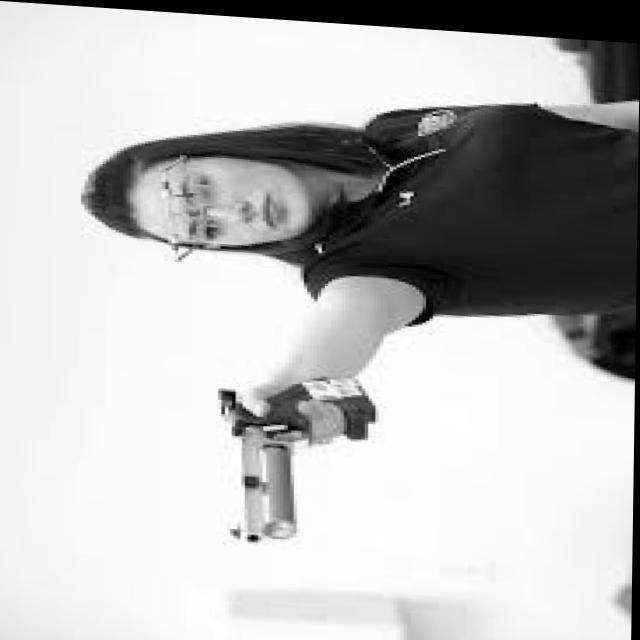handgun: (212, 361, 378, 548)
